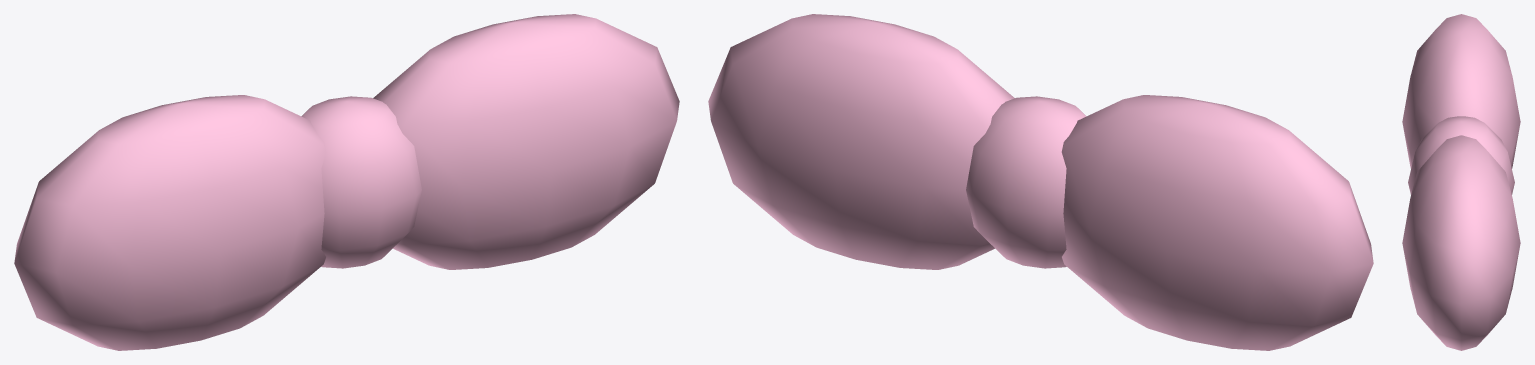
The model's file is cat_bow.glb.
3 views of the same model, side by side, from view 1: azimuth 30°, elevation 25°; view 2: azimuth 150°, elevation 25°; view 3: azimuth 270°, elevation 25° (orthographic). The views are drawn at different scales.
Parts seen in each view (by area): view 1: cat_bow; view 2: cat_bow; view 3: cat_bow.
Boxes of the visible parts, x1=… form: cat_bow: x1=14, y1=14, x2=679, y2=350; cat_bow: x1=708, y1=14, x2=1373, y2=350; cat_bow: x1=1402, y1=14, x2=1520, y2=350.
Size of the model in its own units: 0.1012 by 0.0346 by 0.0208.
